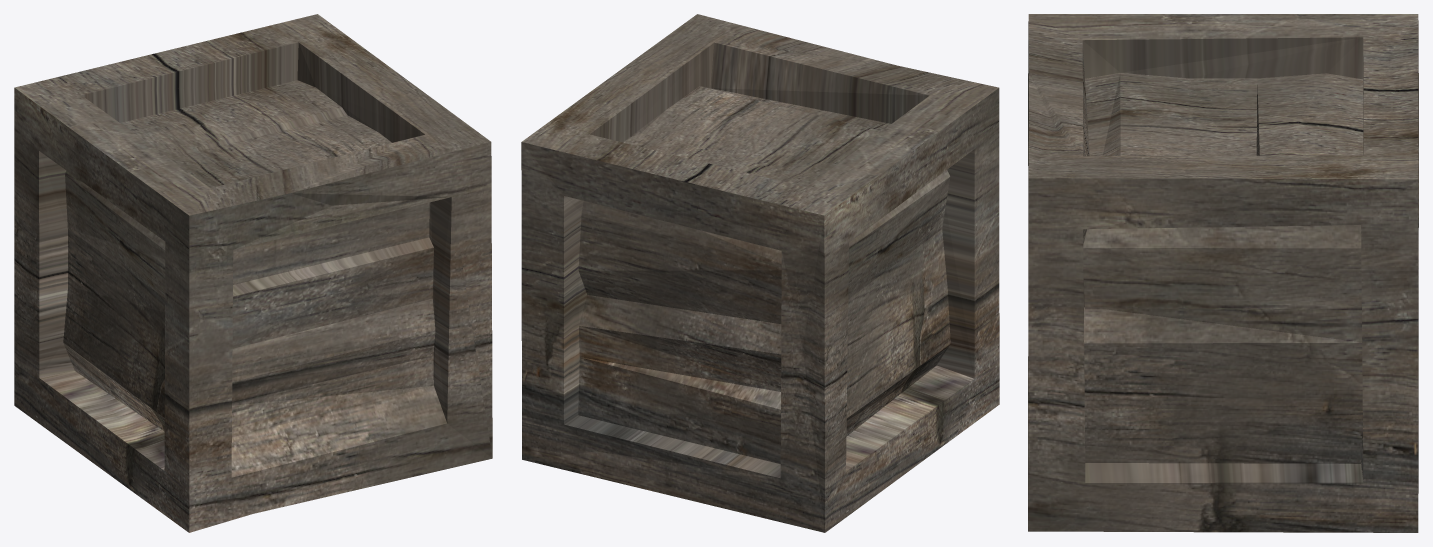
File: crate.fbx
3 renders of one model, left to right at view 1: azimuth 30°, elevation 25°; view 2: azimuth 150°, elevation 25°; view 3: azimuth 270°, elevation 25°, orthographic. The views are drawn at different scales.
Visible parts, largest first — view 1: cratehigh.001; view 2: cratehigh.001; view 3: cratehigh.001.
Boxes of the visible parts, box(x1,y1,x2,y2) form: cratehigh.001: box(14, 14, 492, 532); cratehigh.001: box(521, 14, 999, 532); cratehigh.001: box(1028, 14, 1418, 532).
Bounding box in the file's own units: 0.2533 × 0.2534 × 0.2535.
Materials: 1 (1 with a texture image).
